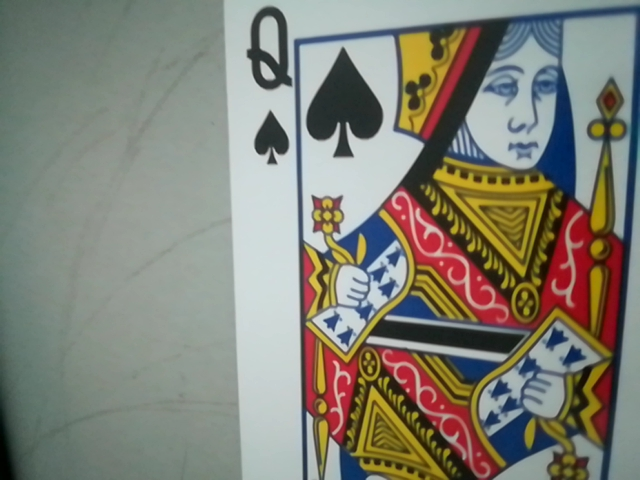ht q: (233, 0, 301, 172)
